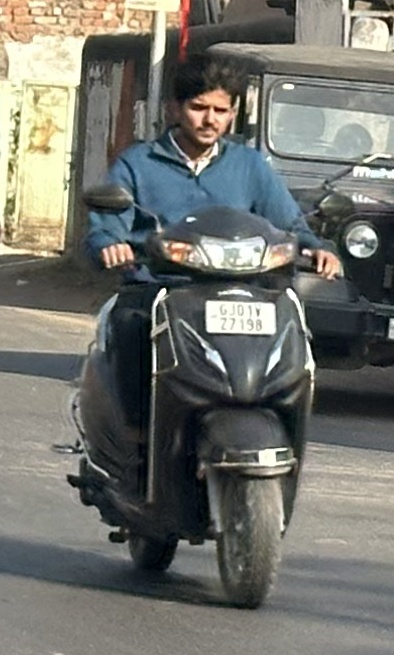BikeWithRider: (44, 47, 352, 615)
NoHelmet: (155, 52, 251, 150)
